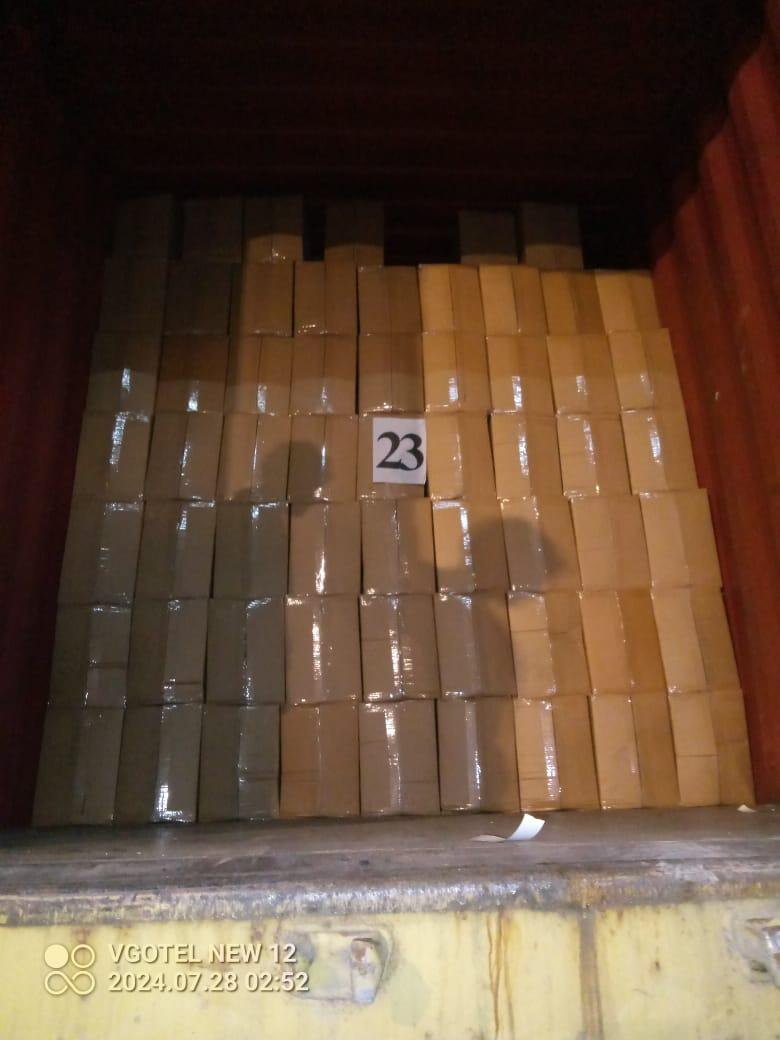carton: (33, 705, 124, 826), (115, 704, 202, 824), (590, 693, 679, 809), (431, 697, 520, 812), (512, 698, 602, 811), (669, 690, 753, 806), (198, 704, 280, 822), (652, 587, 739, 694), (358, 701, 439, 815), (280, 703, 360, 817), (580, 589, 665, 695), (508, 590, 590, 699), (58, 502, 143, 605), (434, 592, 516, 698), (206, 597, 285, 706), (127, 599, 208, 705), (360, 595, 440, 702), (285, 595, 362, 705), (49, 605, 131, 708), (639, 489, 721, 587), (135, 501, 216, 600), (501, 496, 580, 592), (571, 494, 650, 589), (213, 502, 289, 599), (432, 498, 508, 593), (361, 498, 435, 595), (144, 412, 223, 501), (288, 501, 361, 596), (73, 412, 150, 502), (217, 413, 291, 502), (621, 409, 697, 492), (490, 412, 562, 499), (86, 332, 161, 415), (287, 415, 358, 502), (608, 329, 684, 410), (426, 412, 496, 499), (557, 414, 631, 496), (547, 333, 619, 415), (357, 415, 425, 500), (155, 335, 228, 412), (422, 331, 491, 412), (224, 335, 292, 417), (164, 260, 237, 336), (289, 334, 357, 415), (486, 334, 554, 415), (99, 256, 168, 335), (358, 336, 425, 413), (479, 265, 547, 337), (294, 260, 358, 336), (419, 264, 485, 336), (233, 261, 294, 337), (357, 266, 422, 336), (541, 270, 604, 335), (595, 270, 660, 333)
